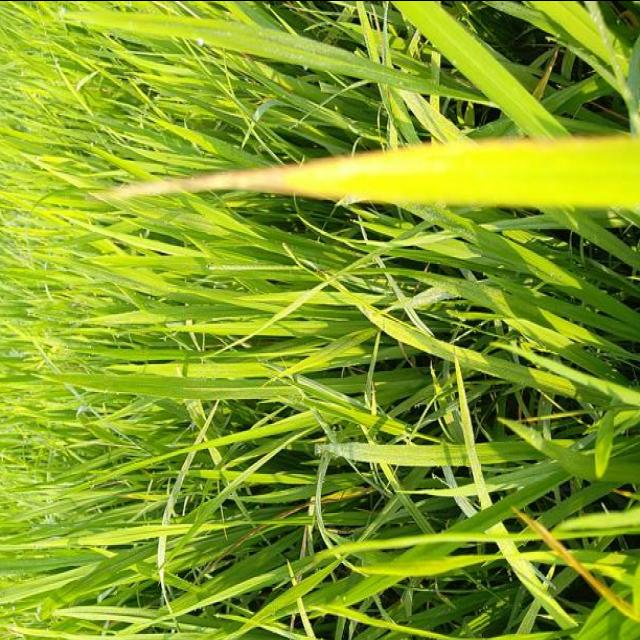Leaf Blight: (112, 150, 449, 199)
